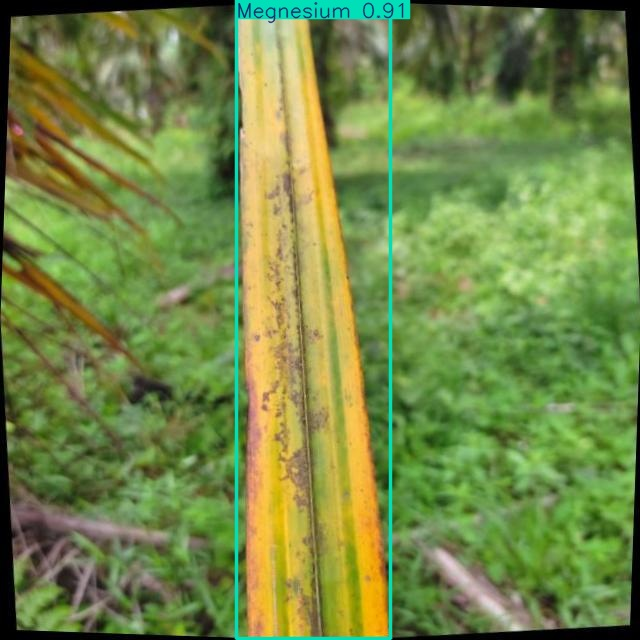Megnesium: (236, 1, 391, 639)
